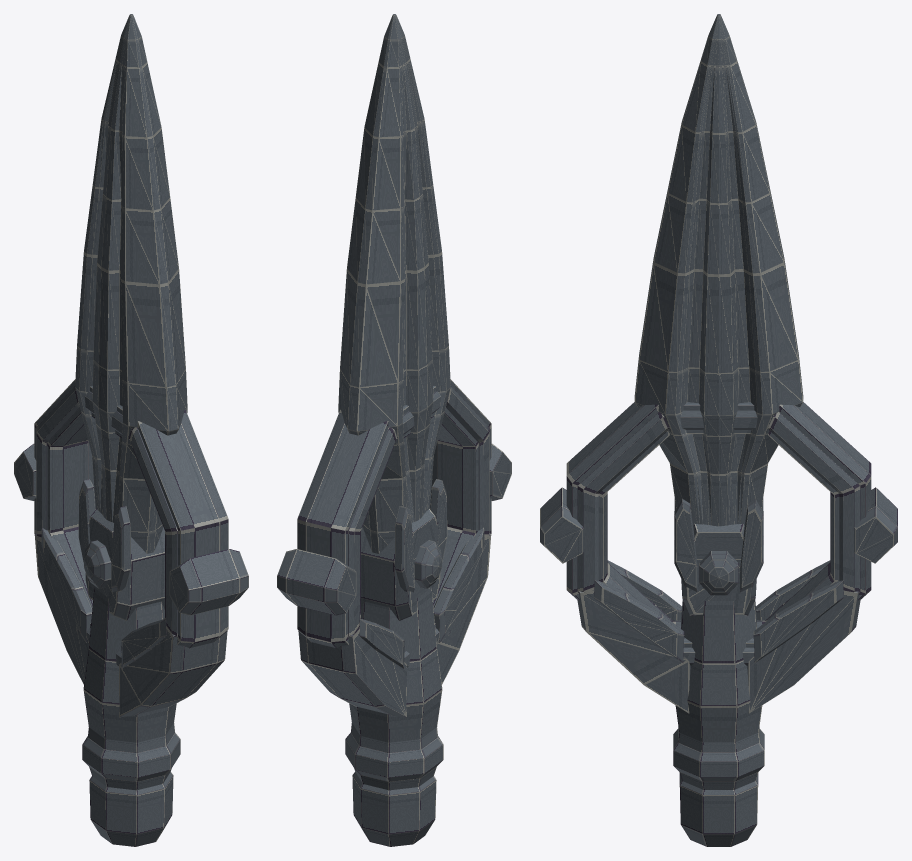
The model's file is workpiece_jindan_jinwu_spear_tempered.obj.
The picture shows the model from 3 angles, left to right: view 1: azimuth 30°, elevation 25°; view 2: azimuth 150°, elevation 25°; view 3: azimuth 270°, elevation 25°; orthographic projection.
Visible parts, largest first — view 1: geometry; view 2: geometry; view 3: geometry.
Part boxes in pixels (x1=…): geometry: x1=14, y1=14, x2=248, y2=846; geometry: x1=277, y1=14, x2=511, y2=846; geometry: x1=540, y1=14, x2=897, y2=846.
Bounding box in the file's own units: 0.1269 × 1.12 × 0.445.
